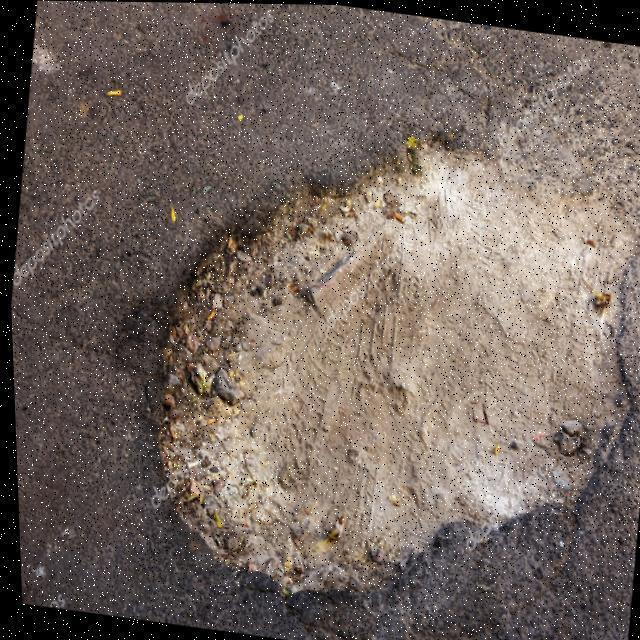Pothole: (150, 128, 628, 590)
